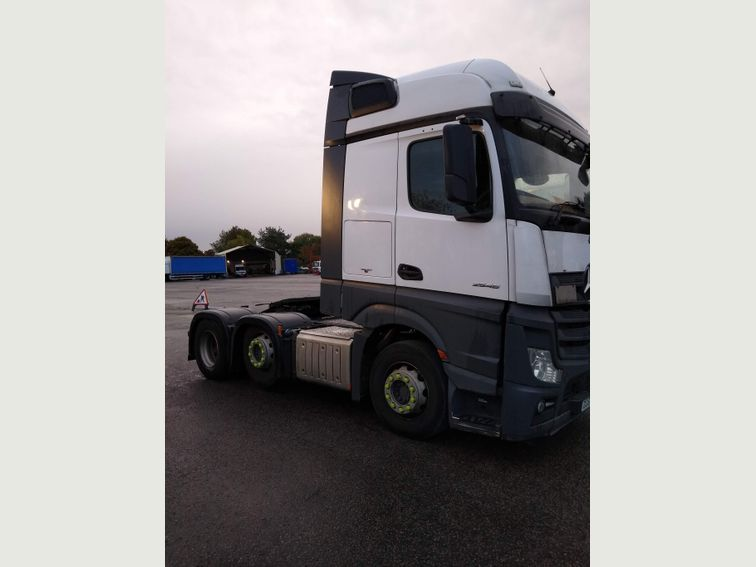Semi: (187, 58, 590, 445)
